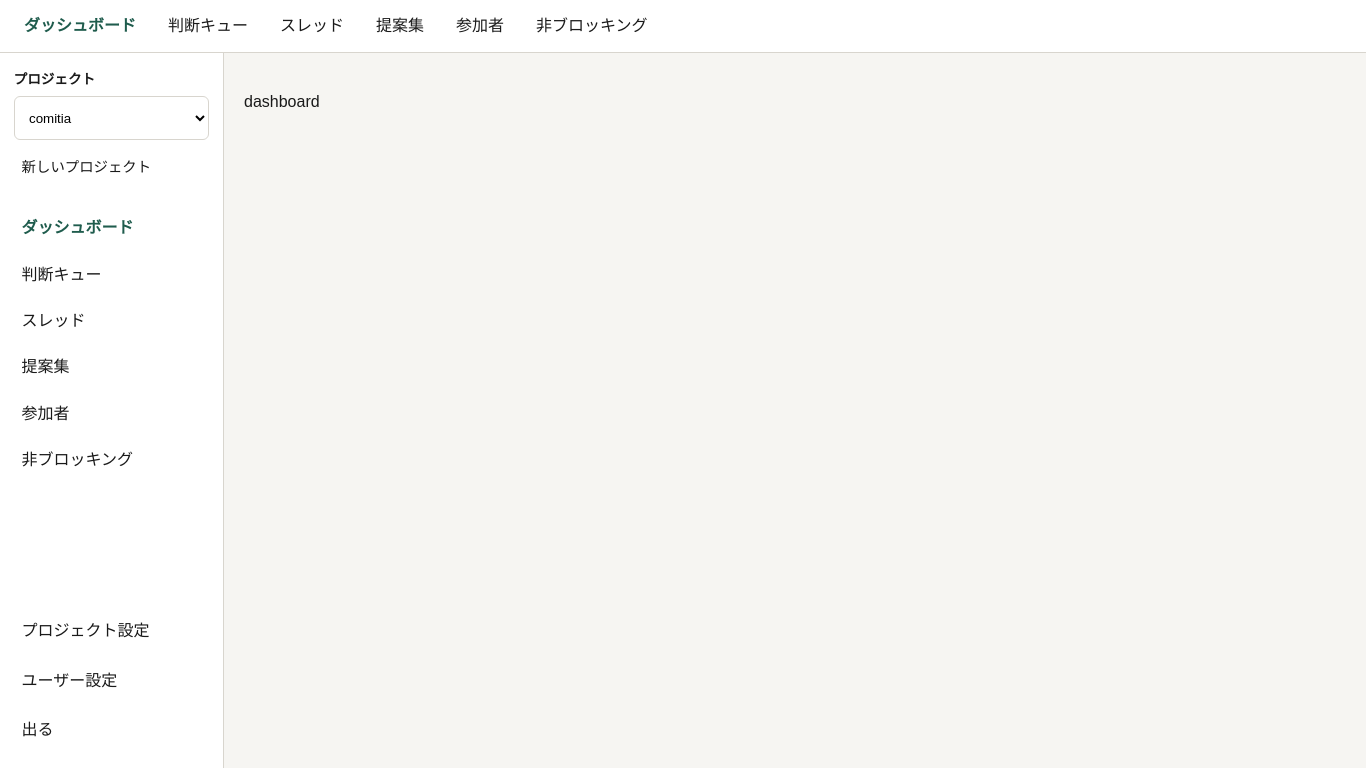
Test: Layout › navigates from the top page nav
Check: the text "dashboard" is shown, box [244,93,320,110]
What coordinates should you click on to do the following:
click the 1st link "判断キュー"
I would click on:
 (208, 26)
Its box is [168,17,248,34].
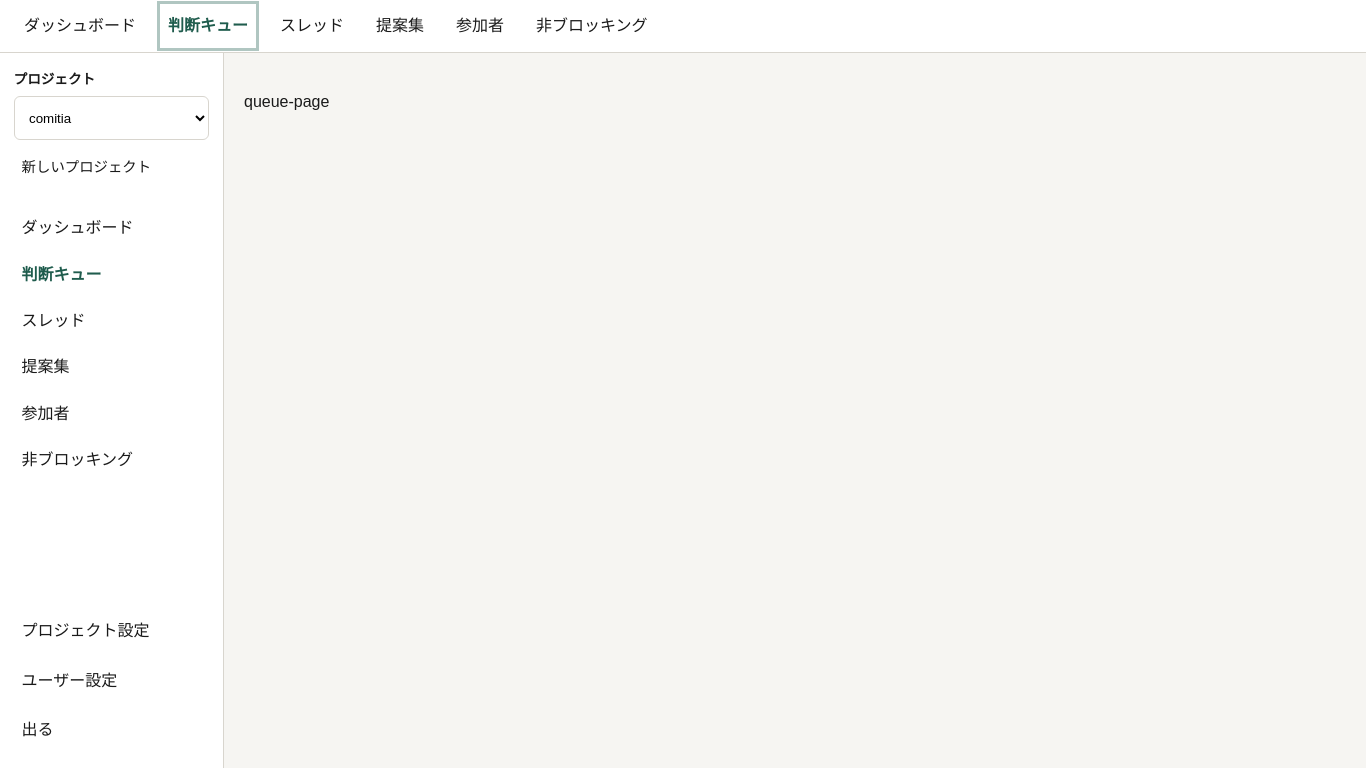
Check: the text "queue-page" is shown, box [244,93,329,110]
